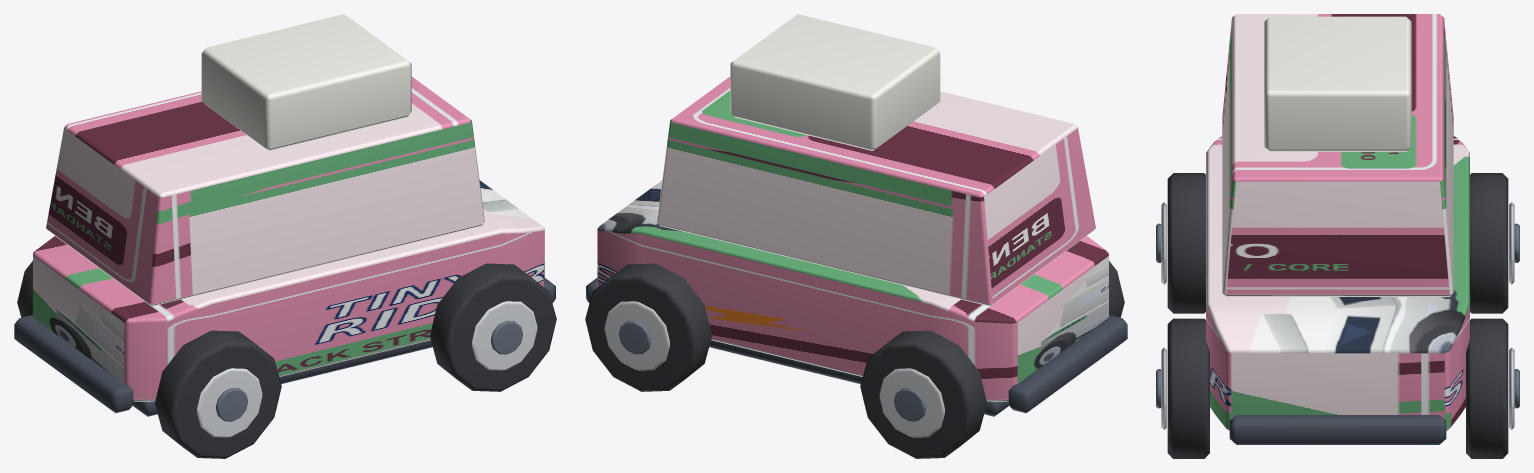
3 renders of one model, left to right at view 1: azimuth 30°, elevation 25°; view 2: azimuth 150°, elevation 25°; view 3: azimuth 270°, elevation 25°, orthographic. The views are drawn at different scales.
Parts seen in each view (by area): view 1: SS-04_cabin, SS-04_connected_shell, lunch box, Tire, Tire.002, front bumper, Rim, Rim.002, underbody, Hub.002, Hub, Tire.001; view 2: SS-04_cabin, SS-04_connected_shell, lunch box, Tire.001, Tire.003, front bumper, Rim.001, Rim.003, underbody, Hub.003, Hub.001, Tire; view 3: SS-04_cabin, SS-04_connected_shell, lunch box, rear bumper, Tire.002, Tire.003, Tire, Tire.001, Rim, Rim.001, Rim.002, Rim.003.
Boxes of the visible parts, x1,y1,x2,y2 form: SS-04_cabin: [46, 76, 484, 306]; SS-04_connected_shell: [33, 180, 544, 401]; lunch box: [201, 14, 411, 150]; Tire: [155, 330, 281, 458]; Tire.002: [430, 263, 556, 391]; front bumper: [14, 315, 133, 413]; Rim: [197, 368, 262, 437]; Rim.002: [472, 301, 537, 370]; underbody: [132, 340, 432, 416]; Hub.002: [491, 320, 522, 354]; Hub: [216, 388, 247, 421]; Tire.001: [17, 261, 32, 317]; SS-04_cabin: [657, 76, 1095, 306]; SS-04_connected_shell: [597, 180, 1108, 401]; lunch box: [730, 14, 940, 150]; Tire.001: [860, 330, 986, 458]; Tire.003: [585, 263, 711, 391]; front bumper: [1008, 315, 1127, 413]; Rim.001: [879, 368, 944, 437]; Rim.003: [604, 301, 669, 370]; underbody: [709, 340, 1009, 416]; Hub.003: [619, 320, 650, 354]; Hub.001: [894, 388, 925, 421]; Tire: [1109, 261, 1124, 317]; SS-04_cabin: [1222, 14, 1453, 296]; SS-04_connected_shell: [1206, 136, 1469, 430]; lunch box: [1264, 16, 1411, 151]; rear bumper: [1229, 415, 1446, 444]; Tire.002: [1167, 318, 1209, 458]; Tire.003: [1466, 318, 1508, 458]; Tire: [1167, 173, 1205, 313]; Tire.001: [1470, 173, 1508, 313]; Rim: [1161, 202, 1166, 284]; Rim.001: [1509, 202, 1514, 284]; Rim.002: [1161, 347, 1166, 429]; Rim.003: [1509, 347, 1514, 429].
Bounding box in the file's own units: 341 × 227 × 222.
